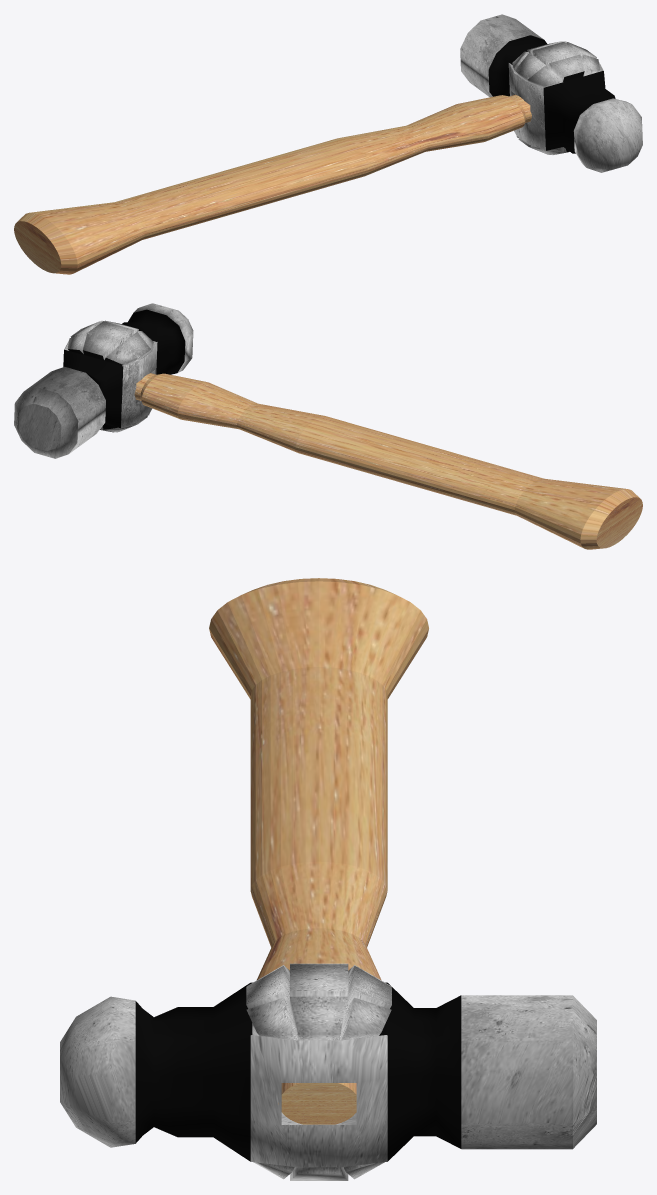
The model's file is hammer.glb.
3 views of the same model, one above another, from view 1: azimuth 30°, elevation 25°; view 2: azimuth 150°, elevation 25°; view 3: azimuth 270°, elevation 25° (orthographic). The views are drawn at different scales.
Visible parts, largest first — view 1: hammer handle, Hammer head; view 2: hammer handle, Hammer head; view 3: Hammer head, hammer handle.
Part boxes in pixels (box(x1,y1,x2,y2)): hammer handle: box(14, 94, 531, 274); Hammer head: box(460, 14, 642, 172); hammer handle: box(134, 373, 642, 549); Hammer head: box(14, 303, 193, 458); Hammer head: box(60, 963, 596, 1180); hammer handle: box(209, 578, 428, 1124).
Size of what is drawn, in the model's own units: 18.47 by 3.02 by 7.84.
3 materials, 2 textured.
